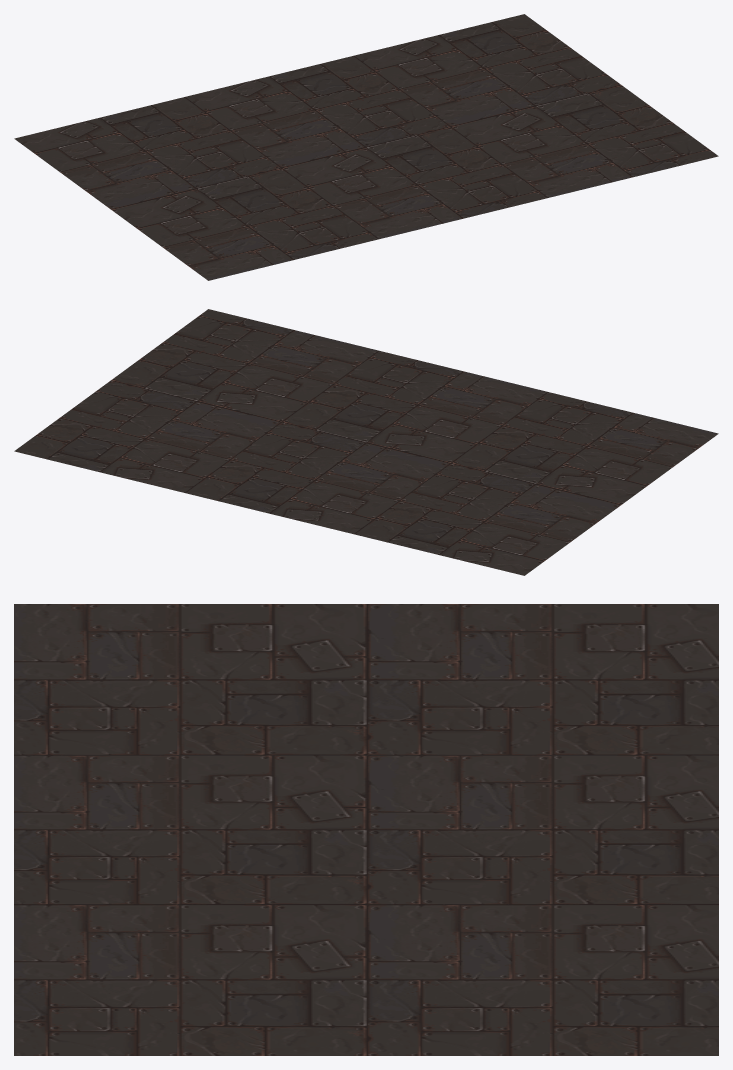
The model's file is sn_jixie_qiang_001.FBX.
The picture shows the model from 3 angles, top to bottom: view 1: azimuth 30°, elevation 25°; view 2: azimuth 150°, elevation 25°; view 3: azimuth 270°, elevation 25°; orthographic projection. The views are drawn at different scales.
Visible parts, largest first — view 1: sn_jixie_qiang_001; view 2: sn_jixie_qiang_001; view 3: sn_jixie_qiang_001.
Part boxes in pixels (box(x1,y1,x2,y2)): sn_jixie_qiang_001: box(14, 14, 718, 280); sn_jixie_qiang_001: box(14, 309, 718, 575); sn_jixie_qiang_001: box(14, 604, 718, 1055).
Bounding box in the file's own units: 71.44 × 47.12 × 3.81e-06.
